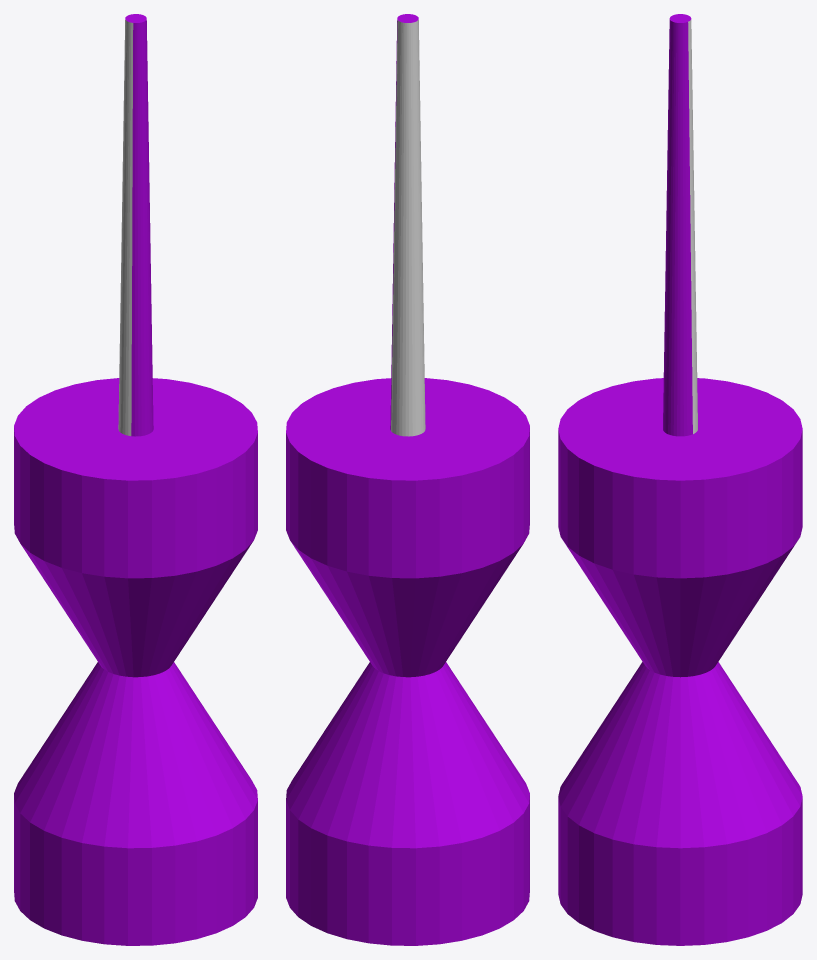
The model's file is pin.glb.
The picture shows the model from 3 angles, left to right: view 1: azimuth 30°, elevation 25°; view 2: azimuth 150°, elevation 25°; view 3: azimuth 270°, elevation 25°; orthographic projection.
Parts seen in each view (by area): view 1: Cylinder; view 2: Cylinder; view 3: Cylinder.
Part boxes in pixels (x1,y1,x2,y2): Cylinder: [14, 14, 257, 945]; Cylinder: [286, 14, 529, 945]; Cylinder: [558, 14, 802, 945].
Size of the model in its own units: 0.24 by 0.9486 by 0.24.
